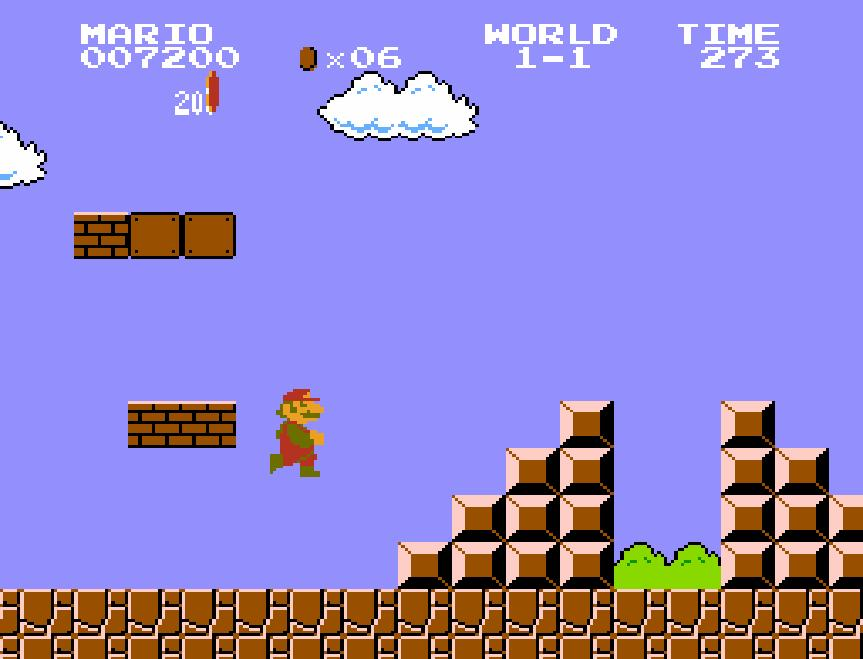big_mario: (267, 381, 325, 479)
